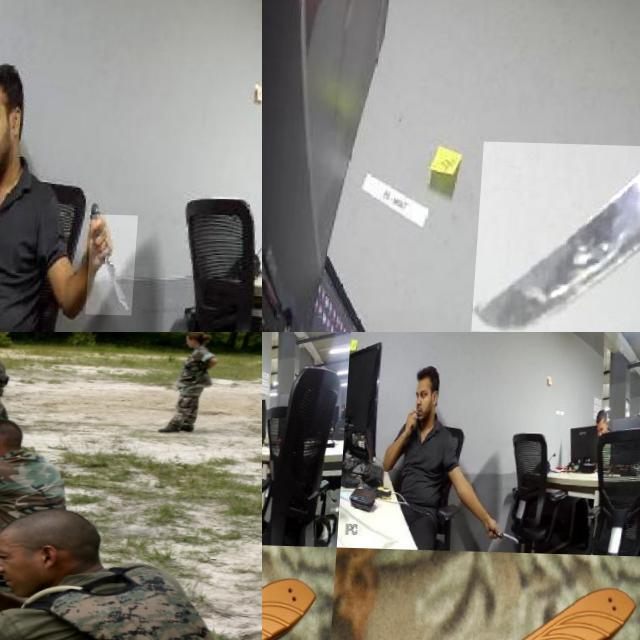-: (478, 139, 640, 332), (92, 212, 144, 314), (501, 521, 523, 549), (262, 336, 267, 369)
gun-knife-thesis - v11 Yolov5 augmented: (0, 552, 139, 609), (0, 434, 88, 470), (0, 394, 61, 416), (0, 369, 36, 381), (0, 383, 30, 395), (0, 345, 22, 355), (0, 353, 26, 361), (0, 361, 19, 371)
